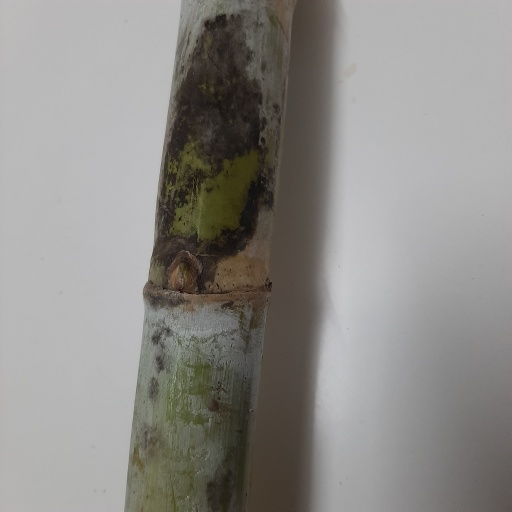Bud: (169, 260, 196, 293)
